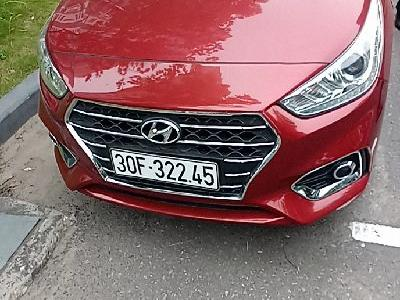car: (110, 148, 221, 193)
